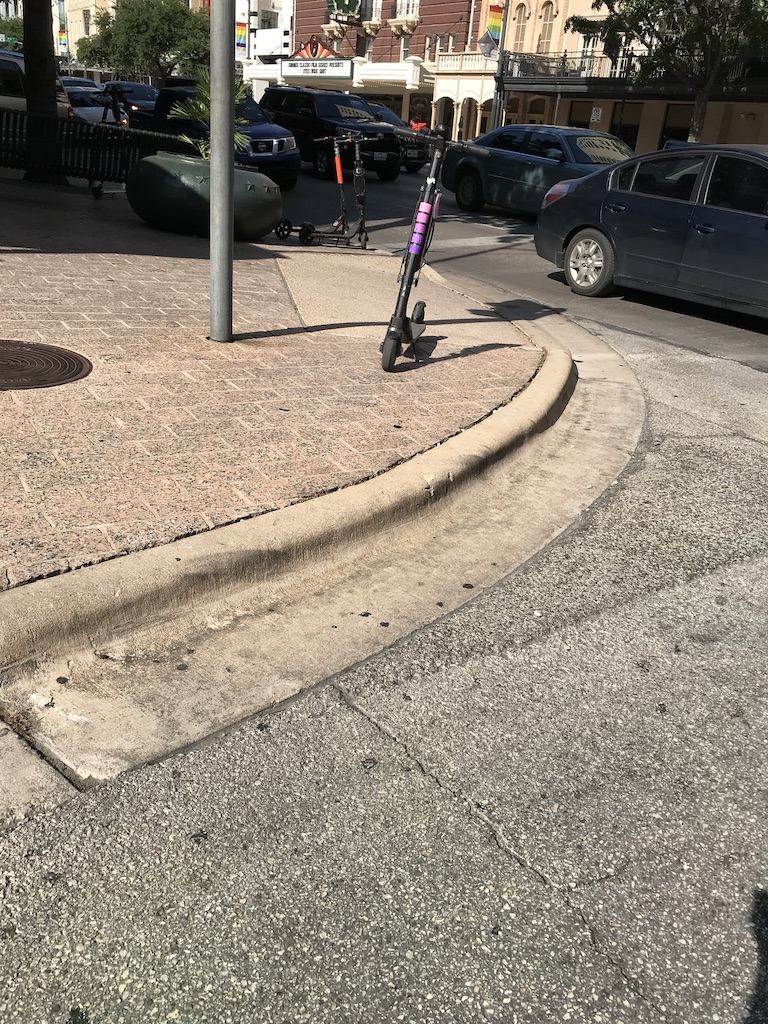scooter: (381, 123, 491, 371), (298, 135, 382, 249), (275, 135, 351, 240)
